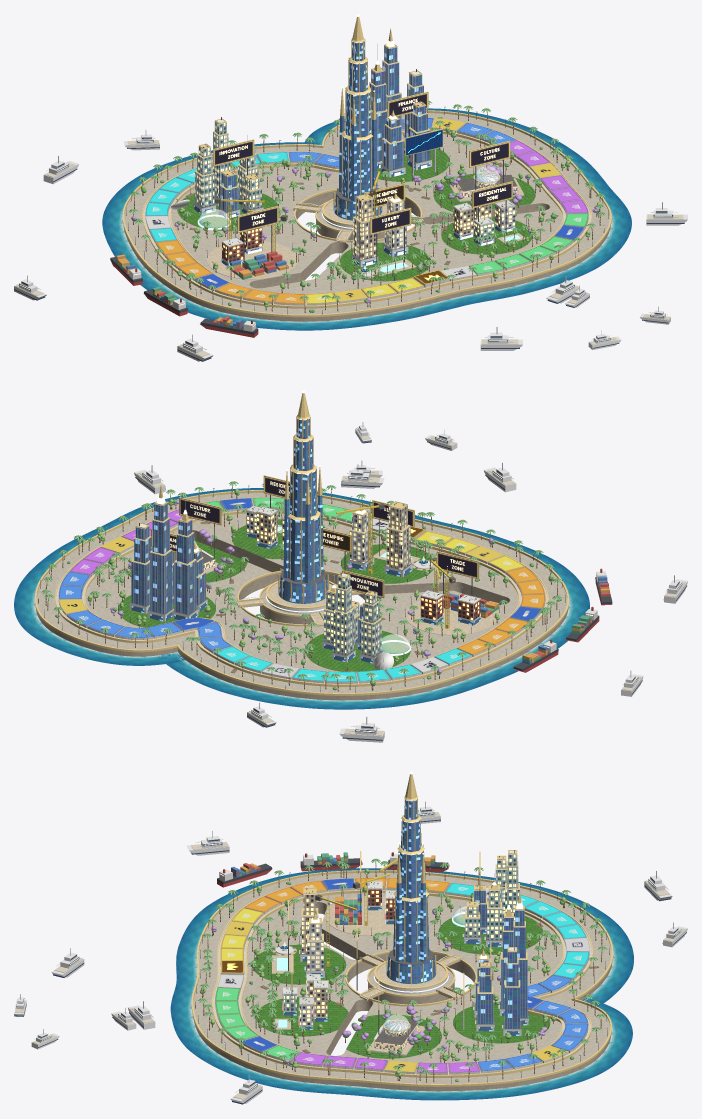
Rendered from board_empire_44.glb.
The picture shows the model from 3 angles, top to bottom: view 1: azimuth 30°, elevation 25°; view 2: azimuth 150°, elevation 25°; view 3: azimuth 270°, elevation 25°; orthographic projection. The views are drawn at different scales.
Visible parts, largest first — view 1: board_empire_44__paving, board_empire_44__empire_44_tiles, board_empire_44__gold, board_empire_44__water_shore, board_empire_44__facade_glass, board_empire_44__steel, board_empire_44__lawn, board_empire_44__quay_stone, board_empire_44__palm, board_empire_44__white, board_empire_44__hull, board_empire_44__trunk (+25 smaller); view 2: board_empire_44__paving, board_empire_44__empire_44_tiles, board_empire_44__facade_glass, board_empire_44__gold, board_empire_44__water_shore, board_empire_44__steel, board_empire_44__quay_stone, board_empire_44__lawn, board_empire_44__white, board_empire_44__palm, board_empire_44__hull, board_empire_44__facade_teal (+17 smaller); view 3: board_empire_44__paving, board_empire_44__empire_44_tiles, board_empire_44__gold, board_empire_44__water_shore, board_empire_44__facade_glass, board_empire_44__lawn, board_empire_44__palm, board_empire_44__quay_stone, board_empire_44__hull, board_empire_44__white, board_empire_44__trunk, board_empire_44__paving_warm (+17 smaller).
Part boxes in pixels (box(x1,y1,x2,y2)): board_empire_44__paving: box(124, 113, 609, 314); board_empire_44__empire_44_tiles: box(145, 118, 588, 305); board_empire_44__gold: box(122, 17, 611, 317); board_empire_44__water_shore: box(102, 108, 631, 330); board_empire_44__facade_glass: box(194, 42, 514, 266); board_empire_44__steel: box(17, 43, 678, 353); board_empire_44__lawn: box(177, 141, 534, 281); board_empire_44__quay_stone: box(123, 191, 610, 321); board_empire_44__palm: box(128, 101, 605, 300); board_empire_44__white: box(129, 72, 524, 331); board_empire_44__hull: box(14, 134, 687, 361); board_empire_44__trunk: box(133, 104, 601, 312); board_empire_44__paving: box(36, 492, 567, 693); board_empire_44__empire_44_tiles: box(58, 497, 545, 683); board_empire_44__facade_glass: box(131, 419, 480, 663); board_empire_44__gold: box(35, 393, 569, 695); board_empire_44__water_shore: box(14, 488, 589, 709); board_empire_44__steel: box(131, 422, 684, 733); board_empire_44__quay_stone: box(36, 530, 568, 700); board_empire_44__lawn: box(118, 519, 433, 671); board_empire_44__white: box(129, 505, 606, 669); board_empire_44__palm: box(41, 481, 561, 680); board_empire_44__hull: box(134, 425, 687, 742); board_empire_44__facade_teal: box(324, 576, 381, 656); board_empire_44__paving: box(193, 873, 611, 1083); board_empire_44__empire_44_tiles: box(215, 878, 589, 1074); board_empire_44__gold: box(191, 774, 613, 1086); board_empire_44__water_shore: box(170, 868, 633, 1100); board_empire_44__facade_glass: box(284, 800, 528, 1035); board_empire_44__lawn: box(253, 914, 550, 1058); board_empire_44__palm: box(198, 858, 607, 1074); board_empire_44__quay_stone: box(193, 902, 611, 1091); board_empire_44__hull: box(14, 806, 687, 1103); board_empire_44__white: box(219, 851, 528, 1055); board_empire_44__trunk: box(202, 859, 603, 1082); board_empire_44__paving_warm: box(272, 896, 462, 1054).
Size of what is drawn, in the model's own units: 37.98 by 13.35 by 37.29.
55 materials, 24 textured.
